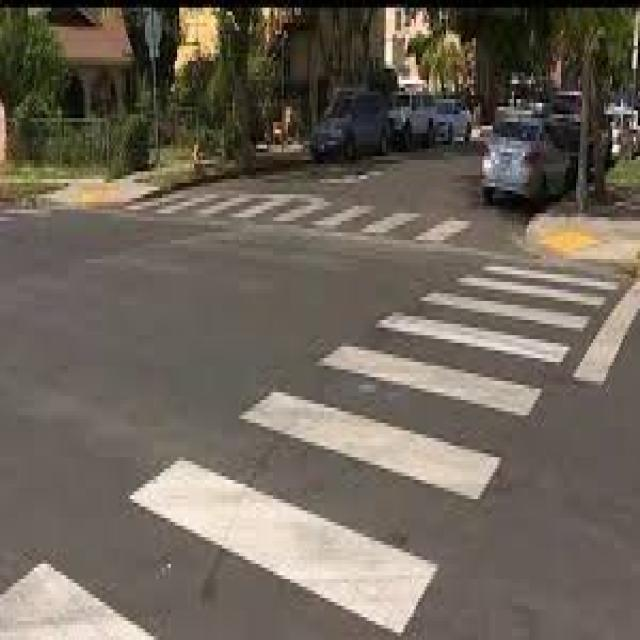Crosswalk: (0, 261, 622, 640), (121, 189, 476, 250)
